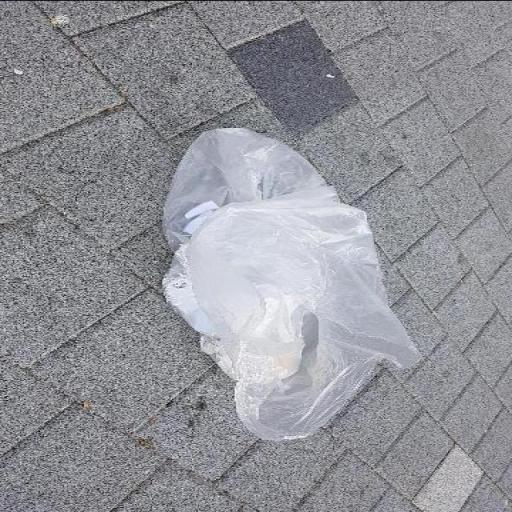plastic-bag: (160, 126, 426, 440)
